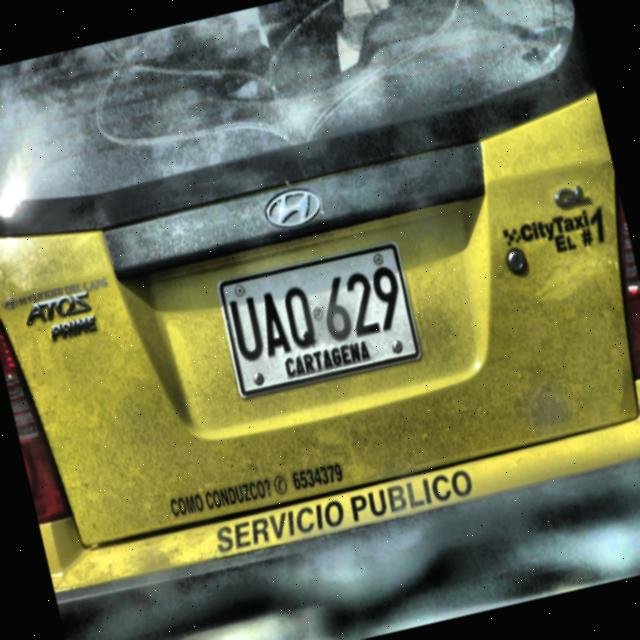2: (342, 269, 382, 339)
6: (316, 274, 356, 344)
9: (368, 262, 407, 332)
A: (254, 288, 292, 358)
Q: (280, 284, 319, 352)
U: (226, 294, 266, 362)
